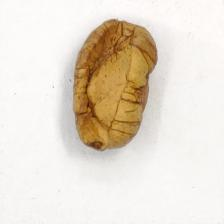NG: (75, 18, 129, 132)
